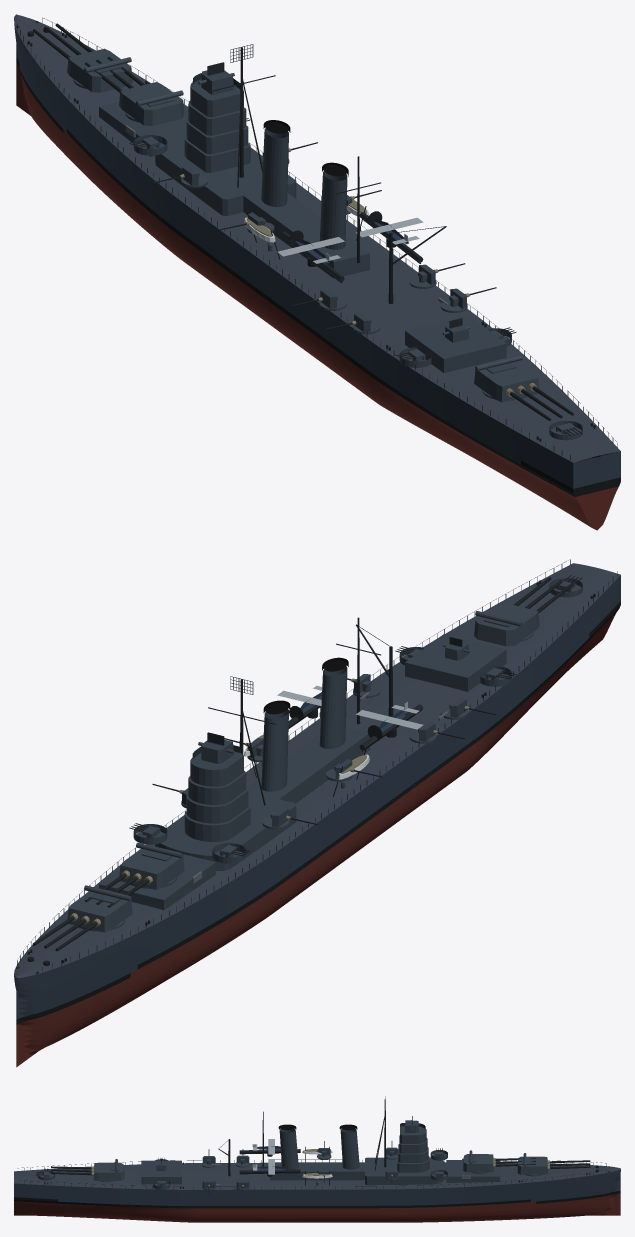
The model's file is new_orleans.glb.
The picture shows the model from 3 angles, top to bottom: view 1: azimuth 30°, elevation 25°; view 2: azimuth 150°, elevation 25°; view 3: azimuth 270°, elevation 25°; orthographic projection. The views are drawn at different scales.
Visible parts, largest first — view 1: Hull, Turret3, Turret2, Turret1, Director; view 2: Hull, Turret3, Turret1, Turret2, Director; view 3: Hull, Turret3, Turret1, Turret2.
Boxes of the visible parts, x1,y1,x2,y2 form: Hull: (14, 14, 620, 530); Turret3: (474, 355, 573, 421); Turret2: (84, 57, 184, 125); Turret1: (32, 23, 132, 92); Director: (198, 62, 234, 94); Hull: (14, 559, 620, 1067); Turret3: (474, 577, 573, 646); Turret1: (32, 885, 132, 951); Turret2: (84, 842, 184, 907); Director: (198, 732, 234, 763); Hull: (14, 1096, 620, 1222); Turret3: (51, 1159, 124, 1182); Turret1: (517, 1153, 590, 1176); Turret2: (463, 1150, 535, 1173).
Size of the model in its own units: 31 by 38.03 by 179.
